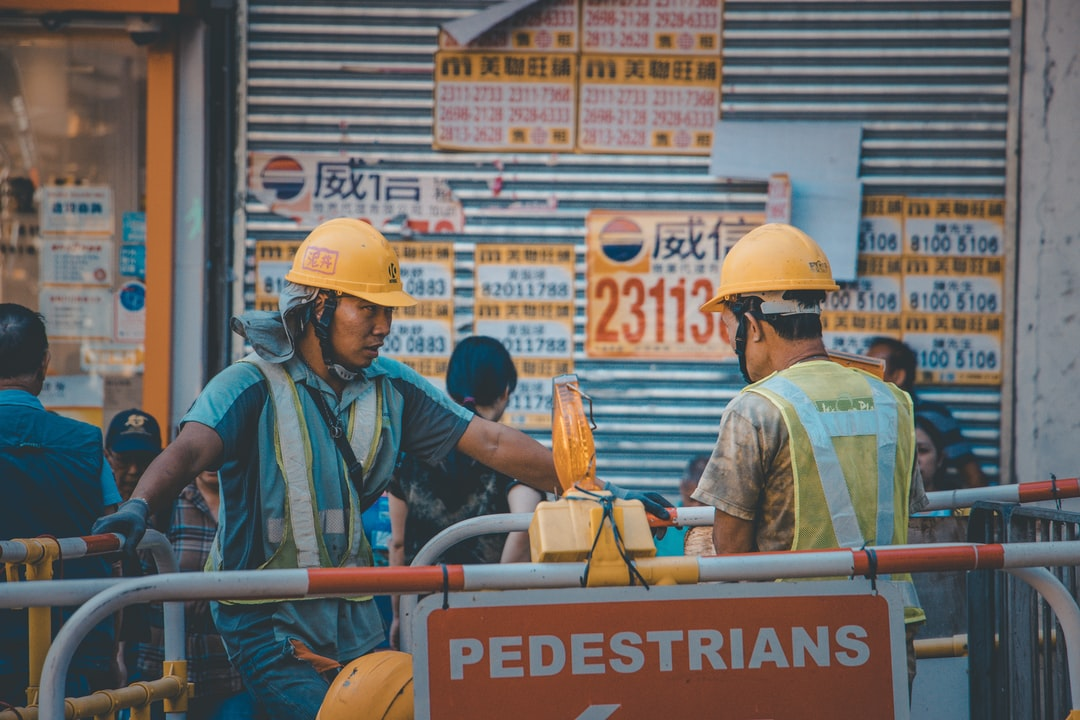Helmet: (697, 219, 846, 314), (280, 214, 421, 313), (304, 645, 412, 720)
